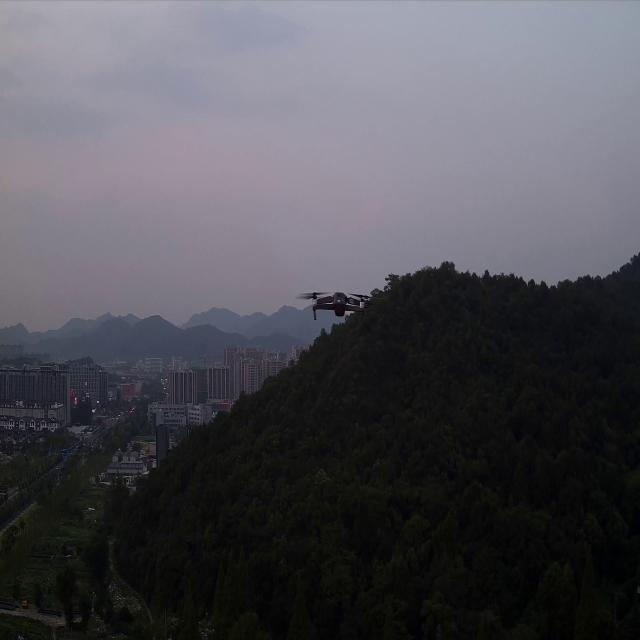UAV: (295, 286, 386, 323)
